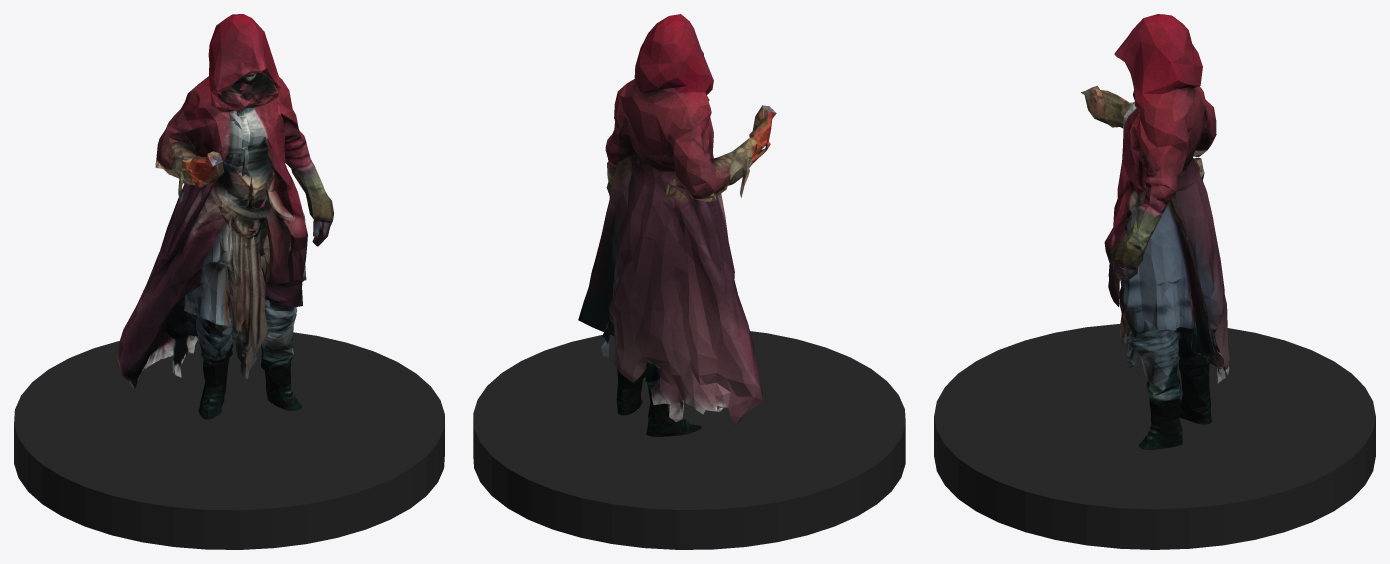
The model's file is talia-jones.glb.
The picture shows the model from 3 angles, left to right: view 1: azimuth 30°, elevation 25°; view 2: azimuth 150°, elevation 25°; view 3: azimuth 270°, elevation 25°; orthographic projection. The views are drawn at different scales.
Parts seen in each view (by area): view 1: base, figure; view 2: base, figure; view 3: base, figure.
Boxes of the visible parts, x1,y1,x2,y2 form: base: (14,332,444,549); figure: (116,14,333,419); base: (473,331,905,549); figure: (578,14,776,436); base: (934,324,1375,549); figure: (1081,14,1229,449).
Size of the model in its own units: 1.18 by 1.32 by 1.18.
2 materials, 1 textured.
